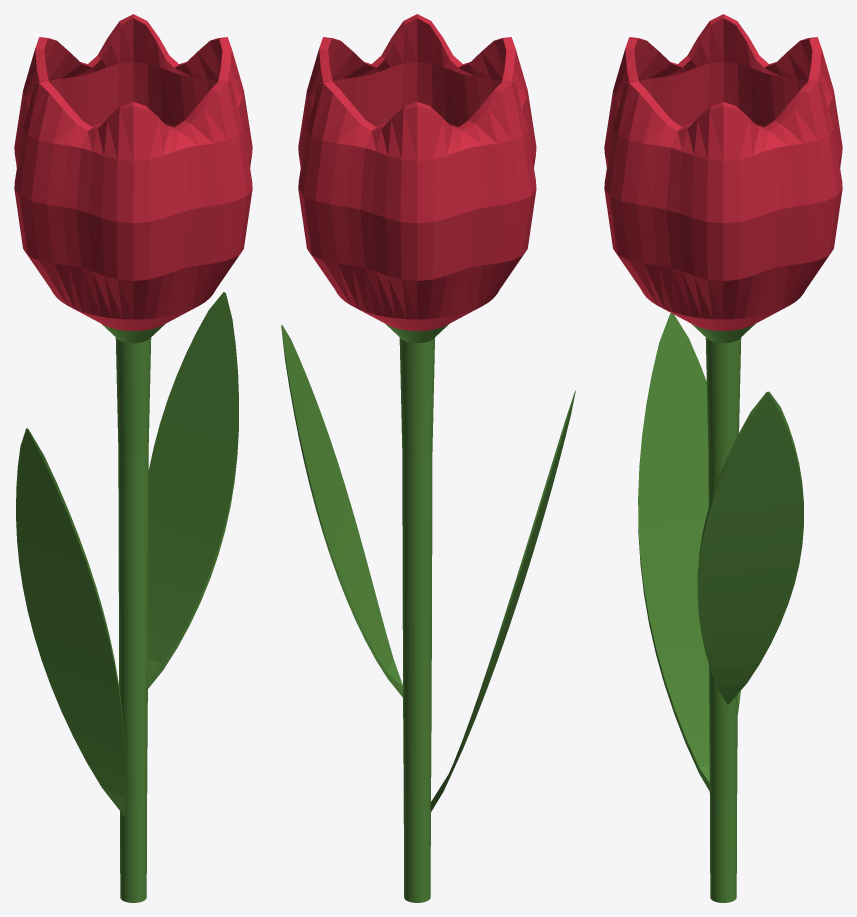
The model's file is NEW_RECOVERY_024_LOD0.glb.
The picture shows the model from 3 angles, left to right: view 1: azimuth 30°, elevation 25°; view 2: azimuth 150°, elevation 25°; view 3: azimuth 270°, elevation 25°; orthographic projection.
Visible parts, largest first — view 1: Tulip_whole; view 2: Tulip_whole; view 3: Tulip_whole.
Part boxes in pixels (x1=…): Tulip_whole: x1=14, y1=14, x2=252, y2=902; Tulip_whole: x1=281, y1=14, x2=575, y2=902; Tulip_whole: x1=604, y1=14, x2=842, y2=902.
Bounding box in the file's own units: 0.7527 × 2.44 × 0.6306.
